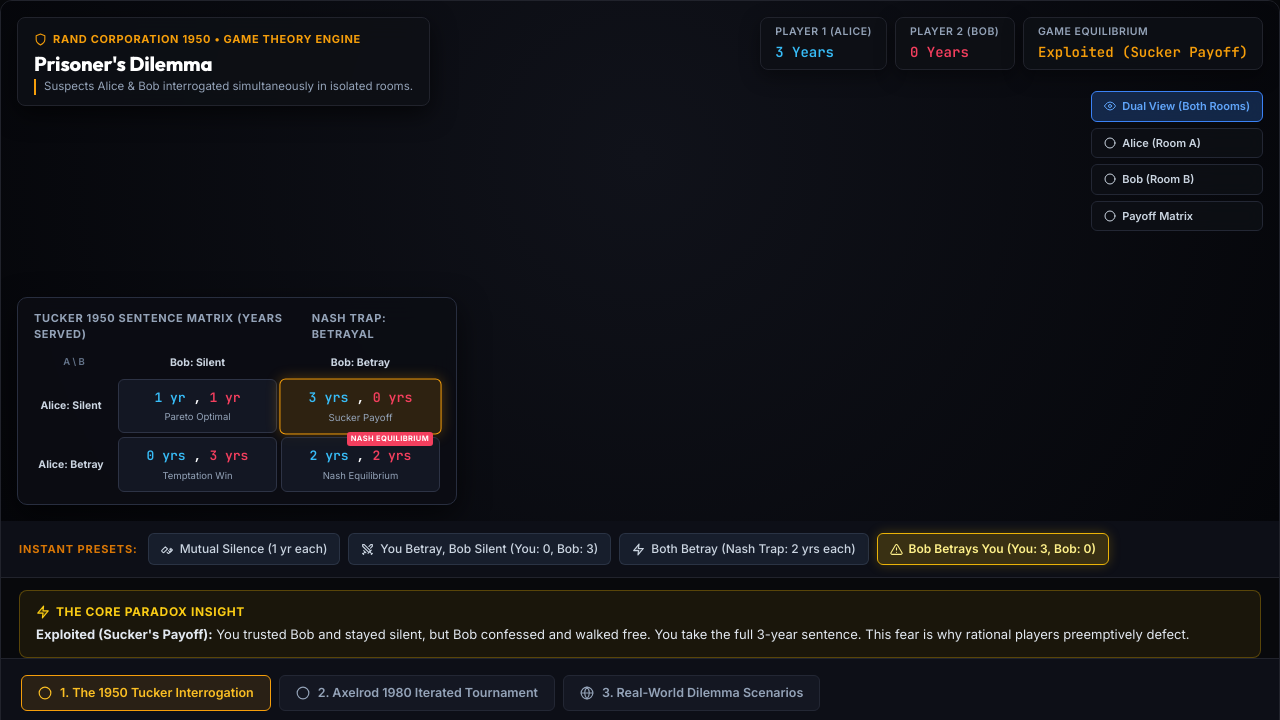
Test: PrisonersDilemma3DLab › simulates repeated rounds in Tab 2 (Axelrod Tournament)
The width and height of the screenshot is (1280, 720).
Click the tab "2. Axelrod 1980 Iterated Tournament": (417, 693) [279,674,555,711]
(page scrolled)
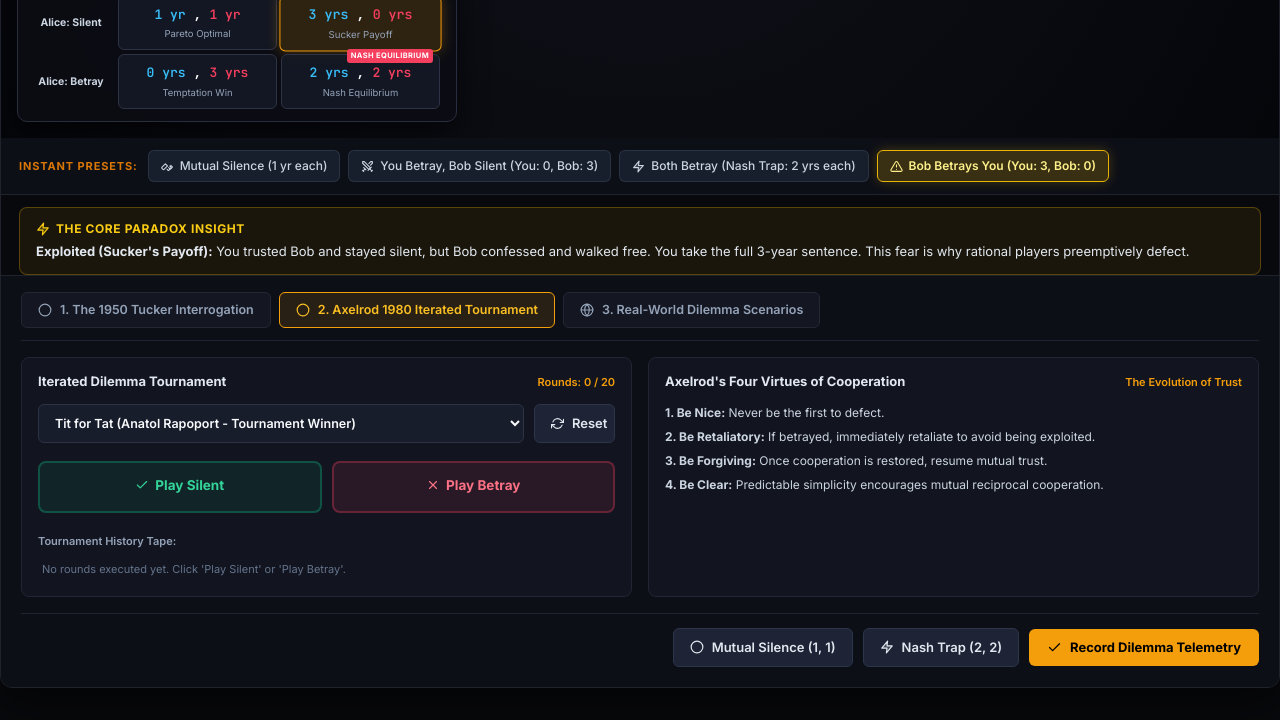
expect the text "Iterated Dilemma Tournament" is shown: met, box [38,372,226,392]
expect the text "Axelrod's Four Virtues of Cooperation" is shown: met, box [665,372,905,392]
# Play round 1: Silent
Click the button with aria-label "Play Silent (Cooperate)": (180, 487) [38,461,322,513]
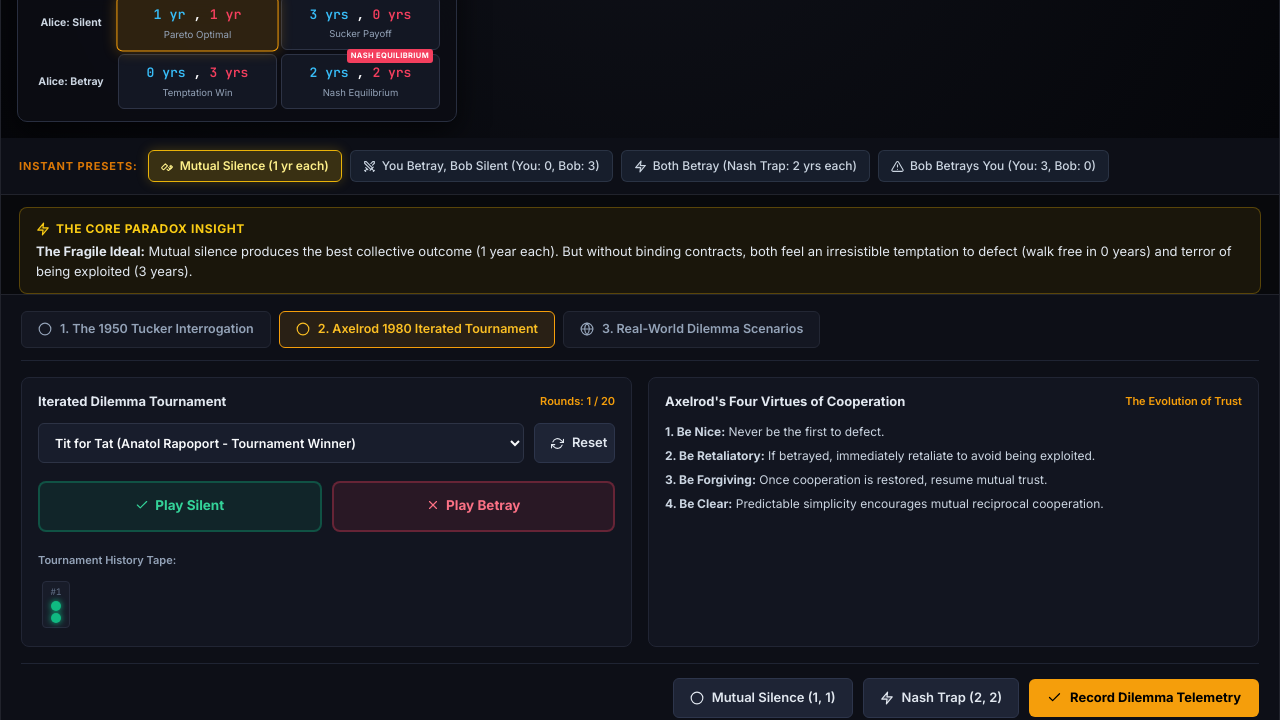
expect the text "Rounds: 1 / 20" is shown: met, box [540,393,615,410]
# Play round 2: Betray
Click the button with aria-label "Play Betray (Defect)": (473, 506) [332,481,615,532]
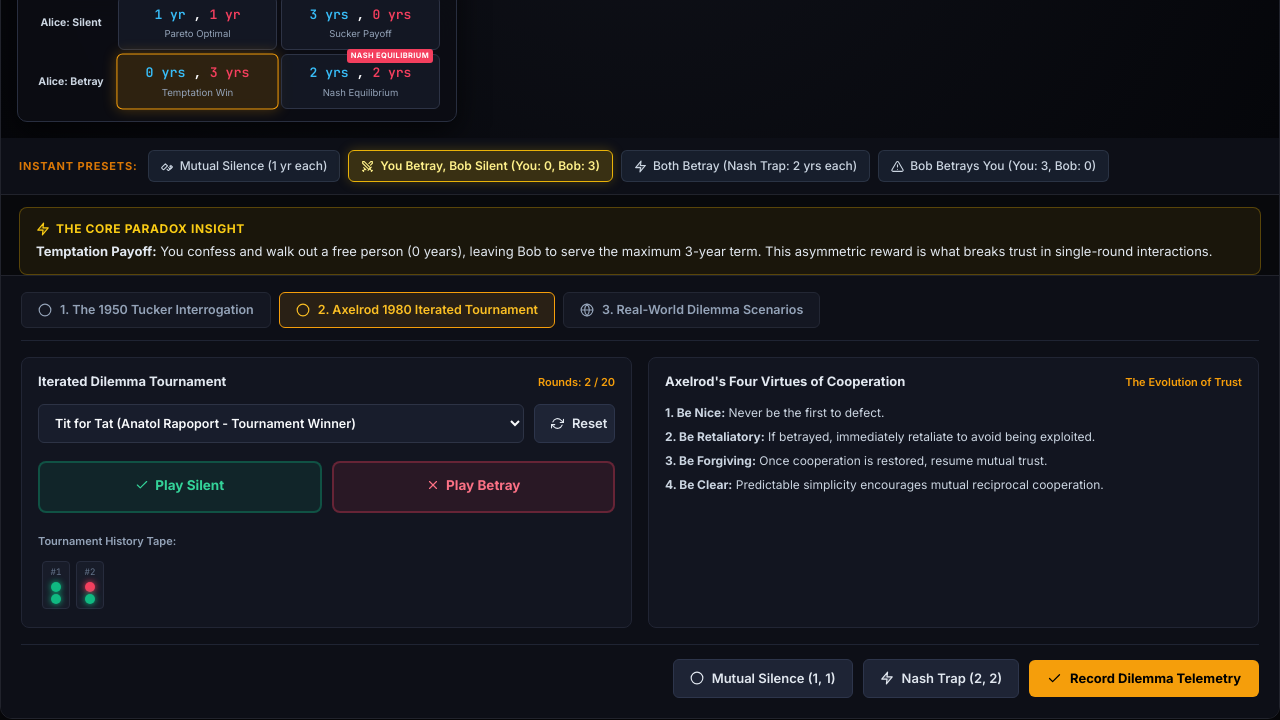
expect the text "Rounds: 2 / 20" is shown: met, box [538,374,615,390]
# Reset tournament
Click the button with aria-label "Reset Tournament": (574, 424) [534,404,615,443]
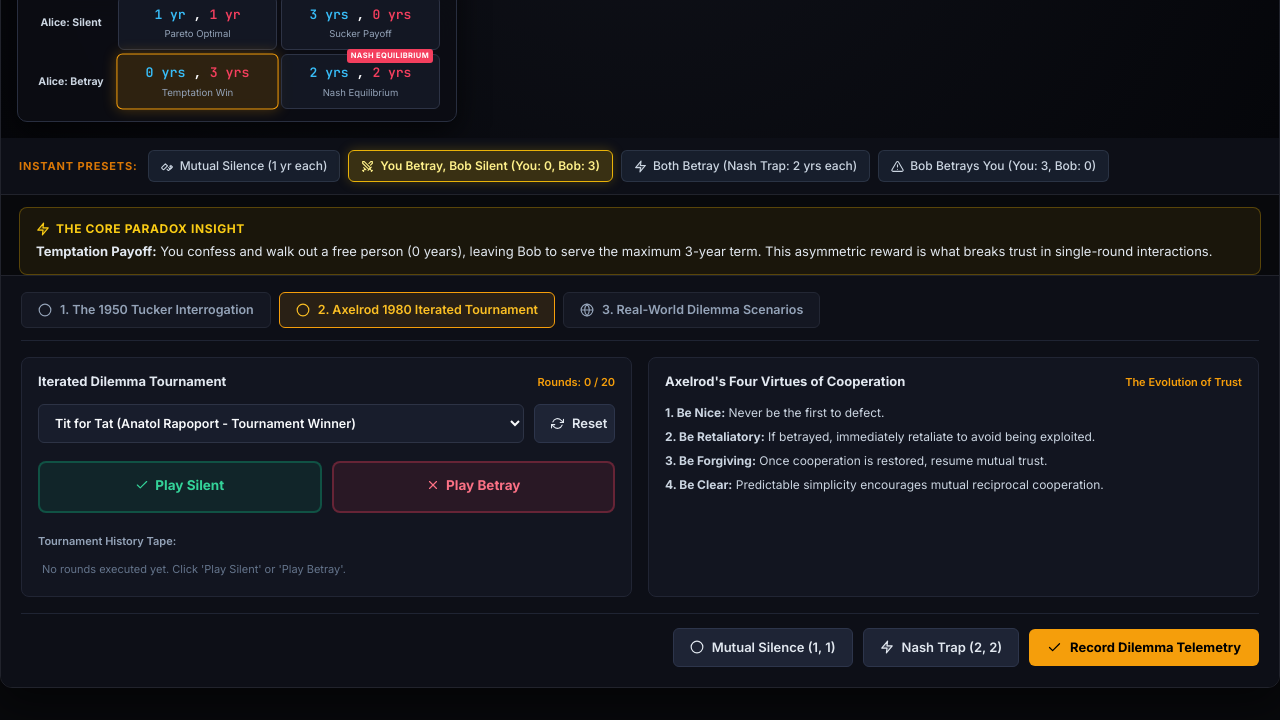
expect the text "Rounds: 0 / 20" is shown: met, box [538,374,615,390]
